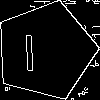I: (20, 25, 37, 72)
